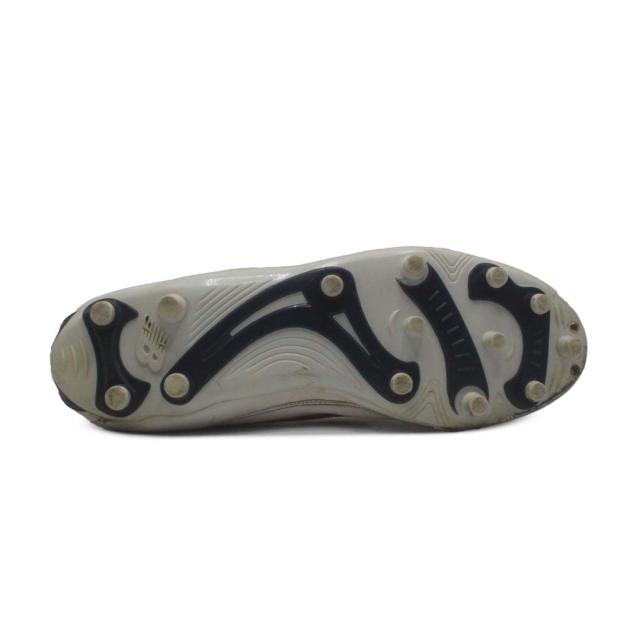outersole: (44, 247, 584, 432)
